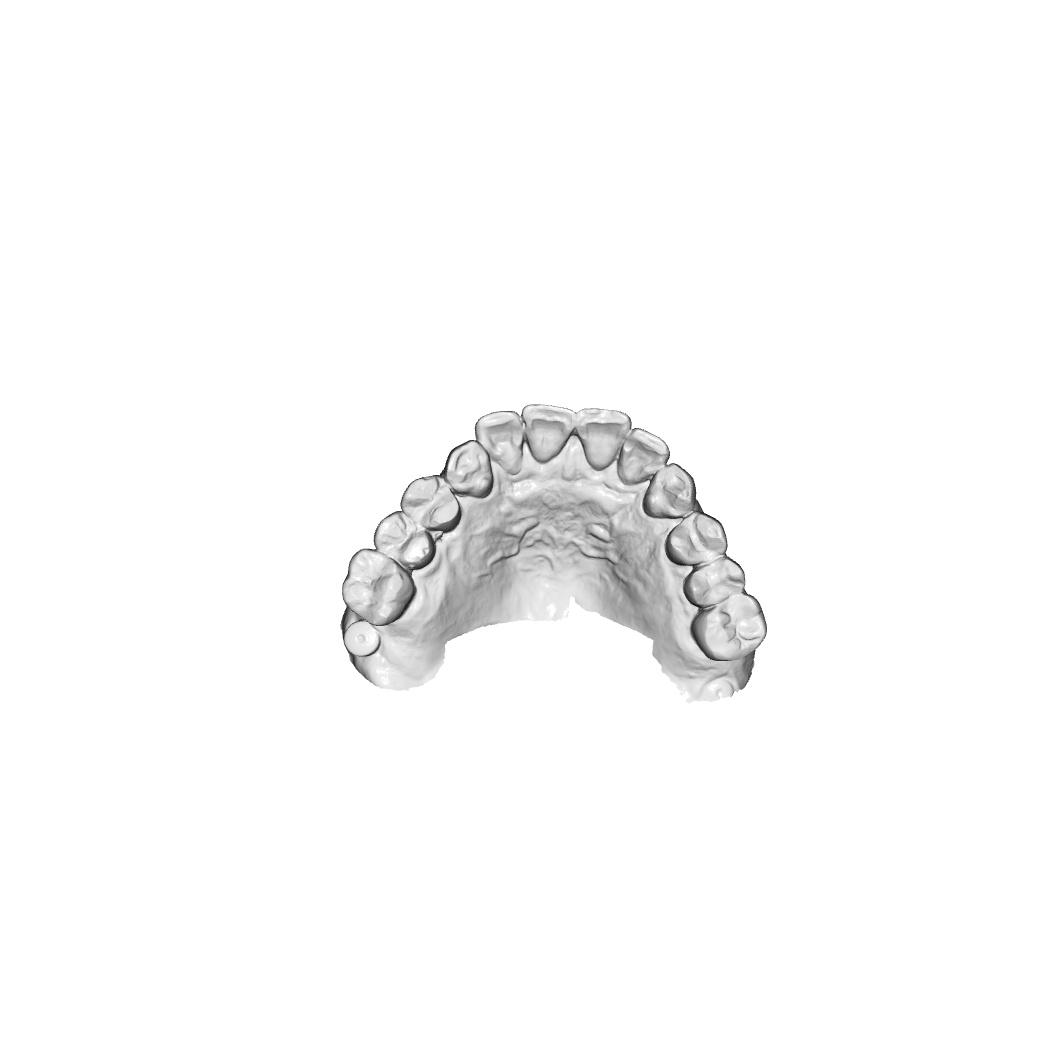canine: (641, 461, 699, 519), (442, 439, 495, 500)
implant: (342, 619, 381, 659)
incisor: (574, 406, 633, 473), (473, 409, 526, 476), (521, 402, 576, 465), (616, 426, 671, 487)
molar: (340, 547, 418, 627), (690, 591, 770, 662)
premolar: (372, 510, 438, 571), (399, 473, 463, 533), (664, 510, 729, 568), (682, 556, 747, 610)
